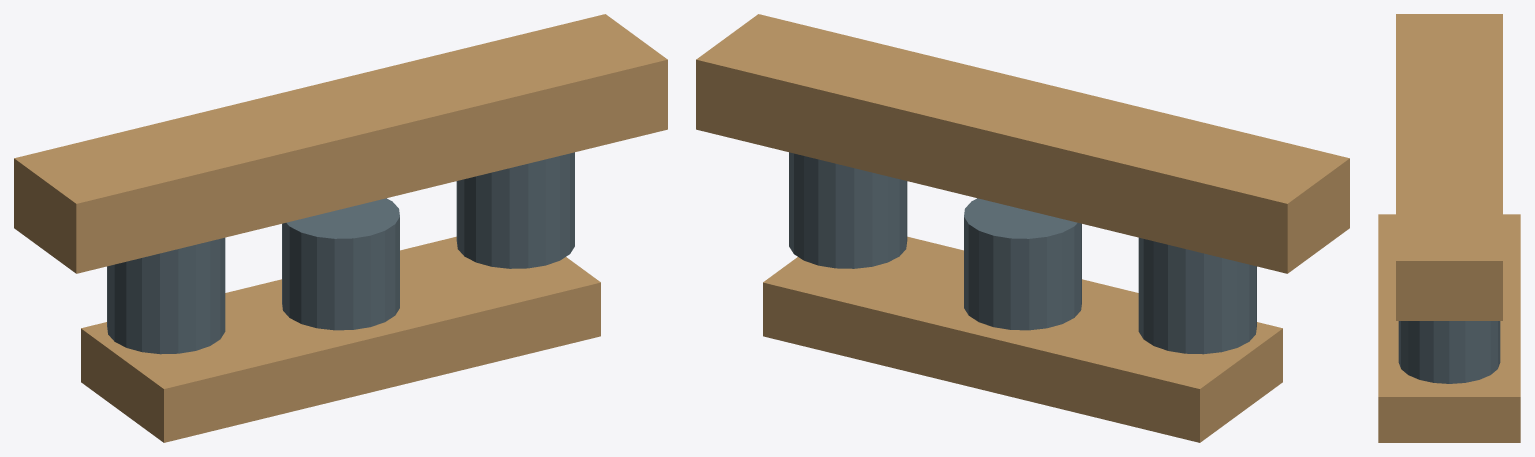
The model's file is MooringCleat.glb.
3 views of the same model, side by side, from view 1: azimuth 30°, elevation 25°; view 2: azimuth 150°, elevation 25°; view 3: azimuth 270°, elevation 25° (orthographic). The views are drawn at different scales.
Parts seen in each view (by area): view 1: MooringCleat; view 2: MooringCleat; view 3: MooringCleat.
Boxes of the visible parts, x1=… form: MooringCleat: x1=14, y1=14, x2=667, y2=442; MooringCleat: x1=696, y1=14, x2=1349, y2=442; MooringCleat: x1=1378, y1=14, x2=1520, y2=442.
Size of the model in its own units: 1.15 by 0.465 by 0.28.
